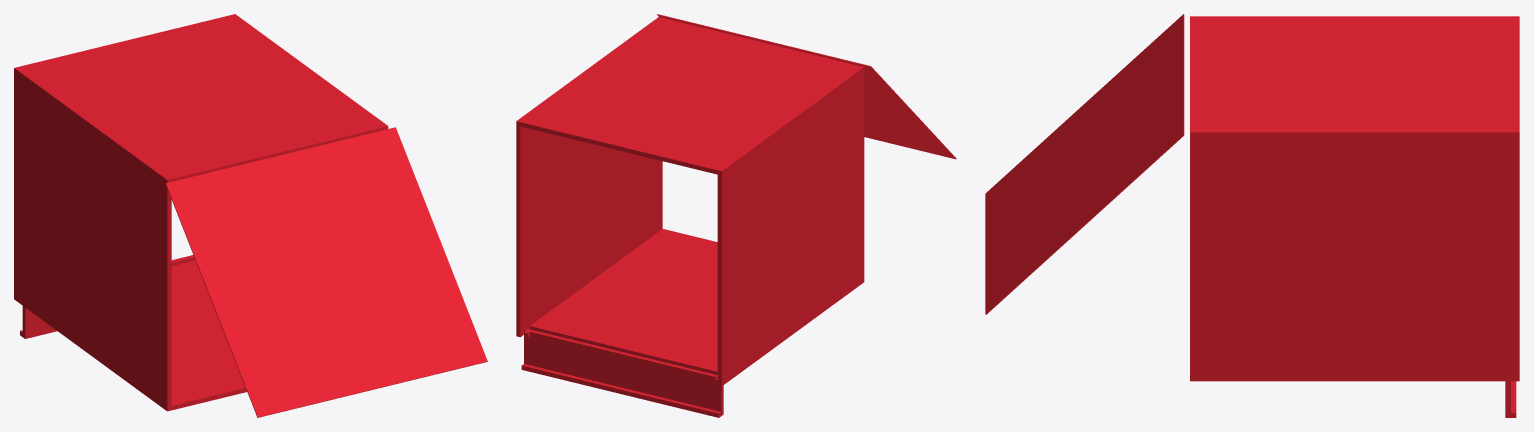
The model's file is tinker.obj.
3 views of the same model, side by side, from view 1: azimuth 30°, elevation 25°; view 2: azimuth 150°, elevation 25°; view 3: azimuth 270°, elevation 25° (orthographic). The views are drawn at different scales.
Parts seen in each view (by area): view 1: obj_0; view 2: obj_0; view 3: obj_0.
Part boxes in pixels (x1=…): obj_0: x1=14, y1=14, x2=487, y2=417; obj_0: x1=516, y1=14, x2=956, y2=417; obj_0: x1=985, y1=14, x2=1519, y2=417.
Bounding box in the file's own units: 52 × 57.79 × 97.2.
